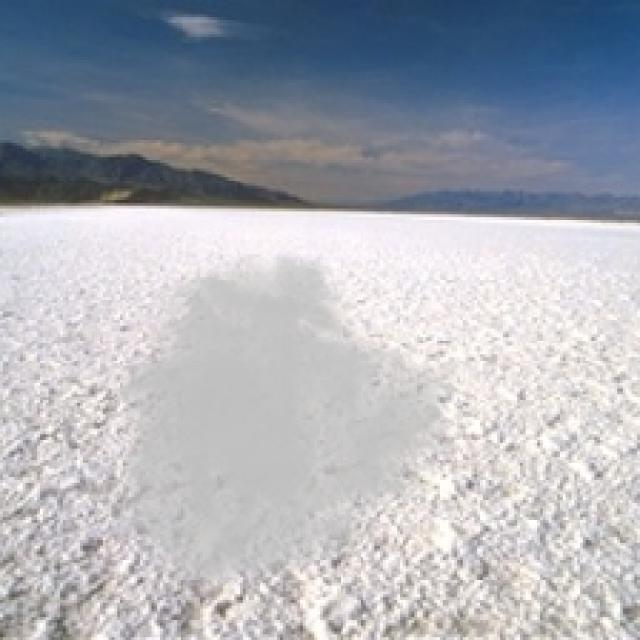Smoke: (100, 248, 469, 594)
